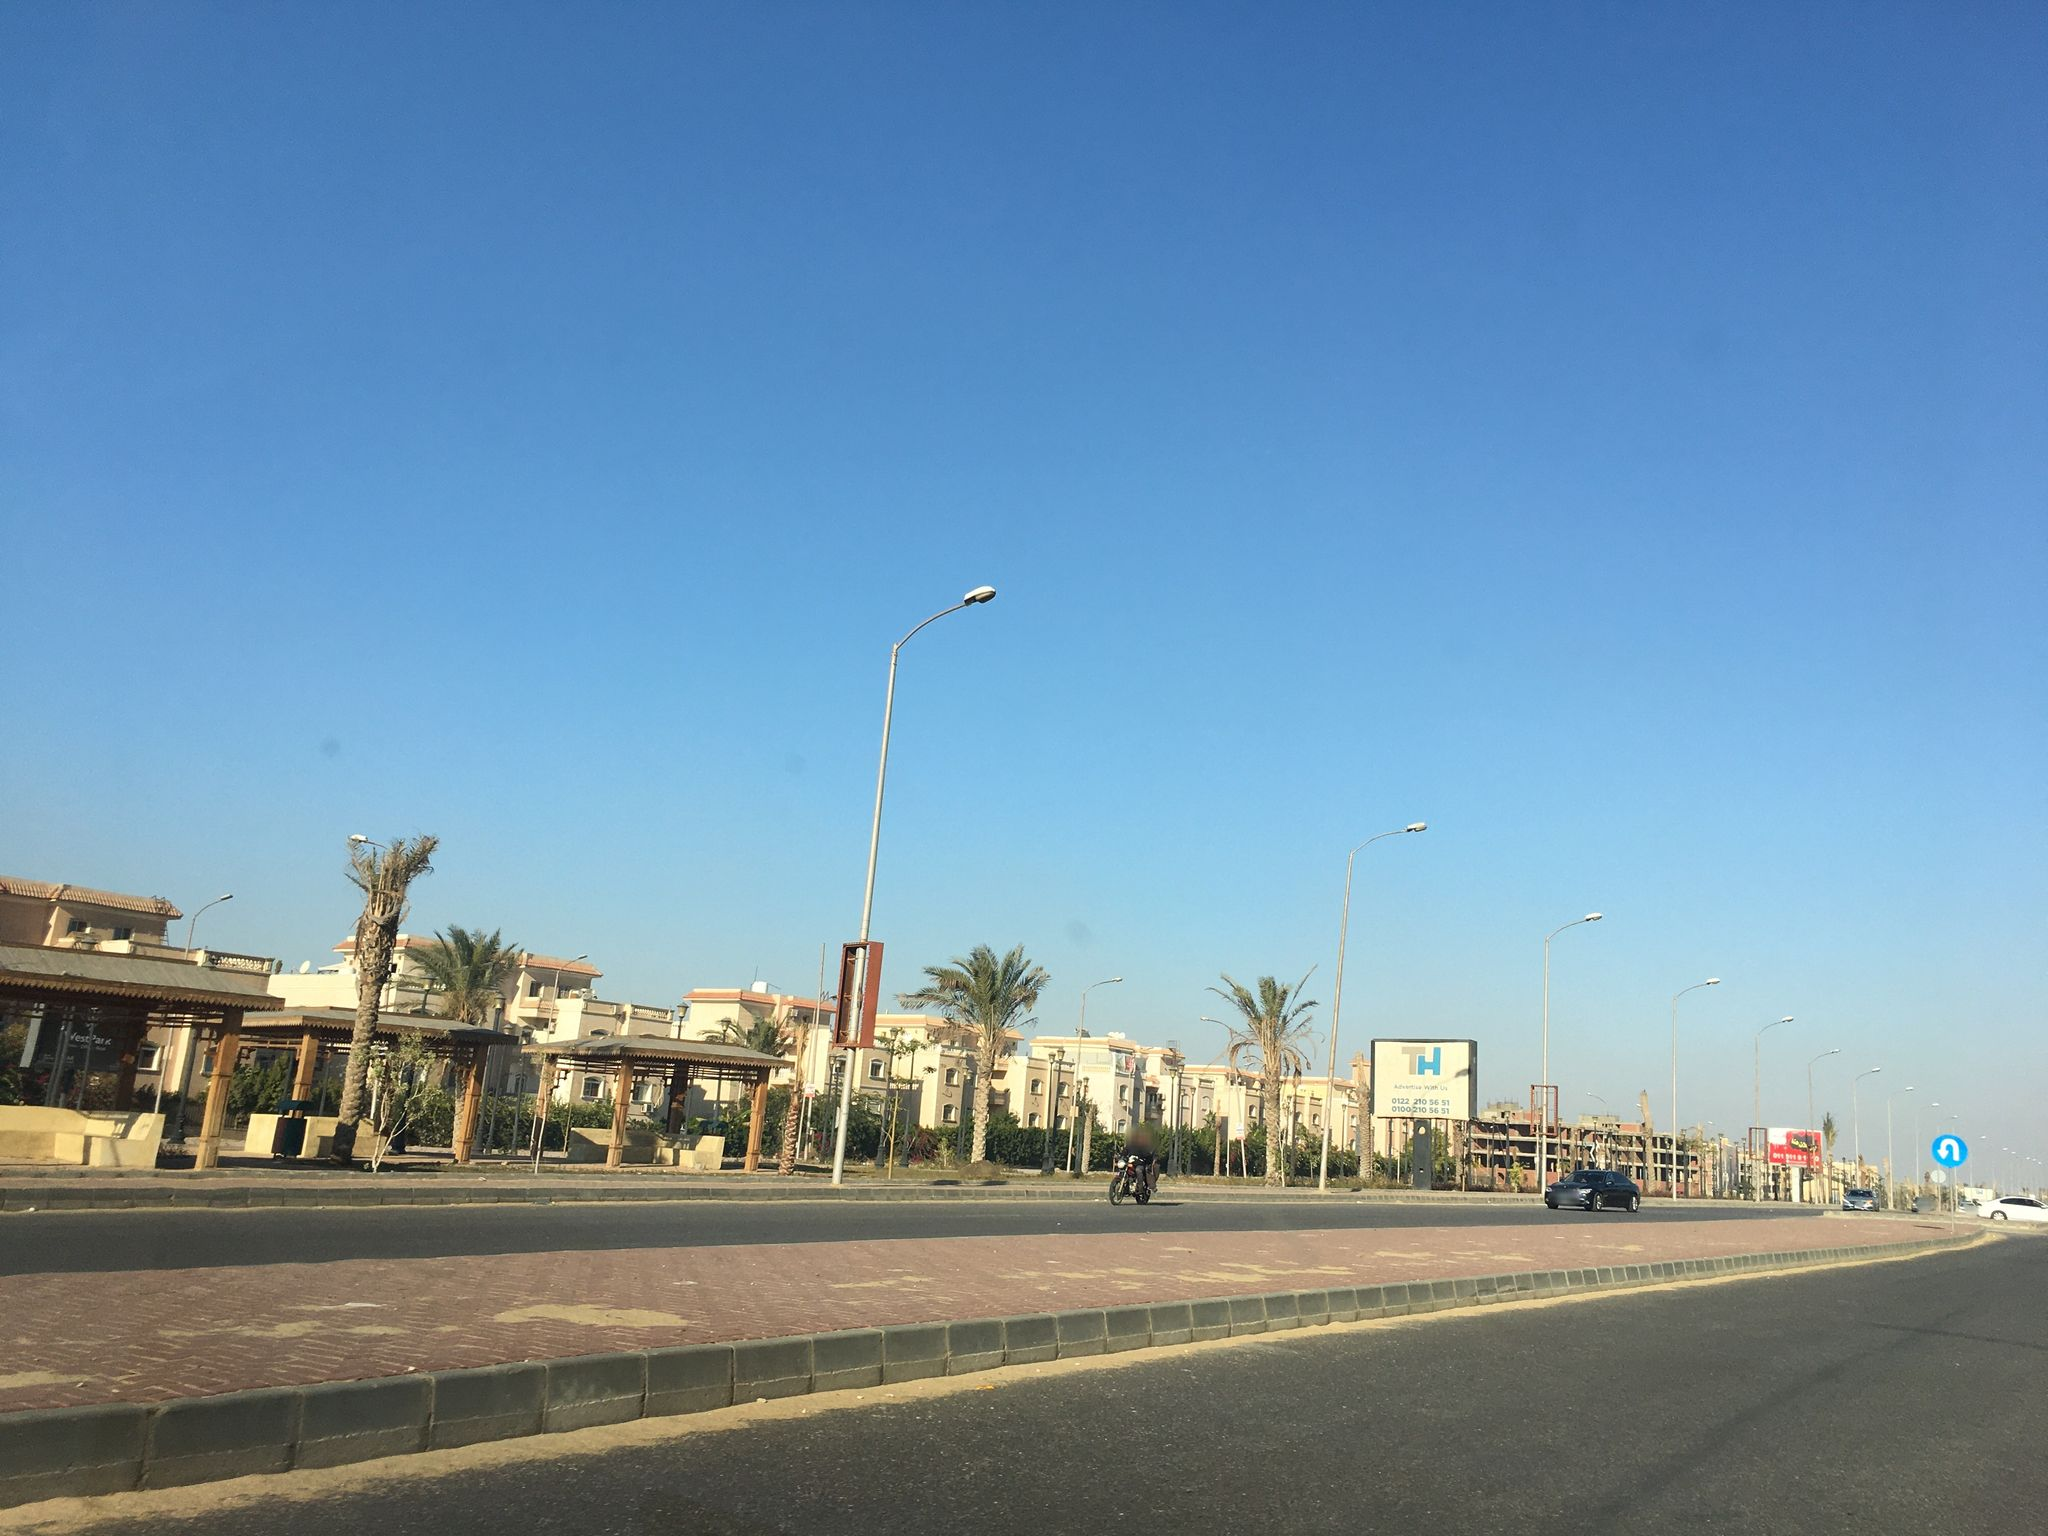car: (1543, 1168, 1640, 1212), (1975, 1196, 2048, 1221), (1840, 1187, 1879, 1212)
motorcycle: (1108, 1150, 1159, 1204)
